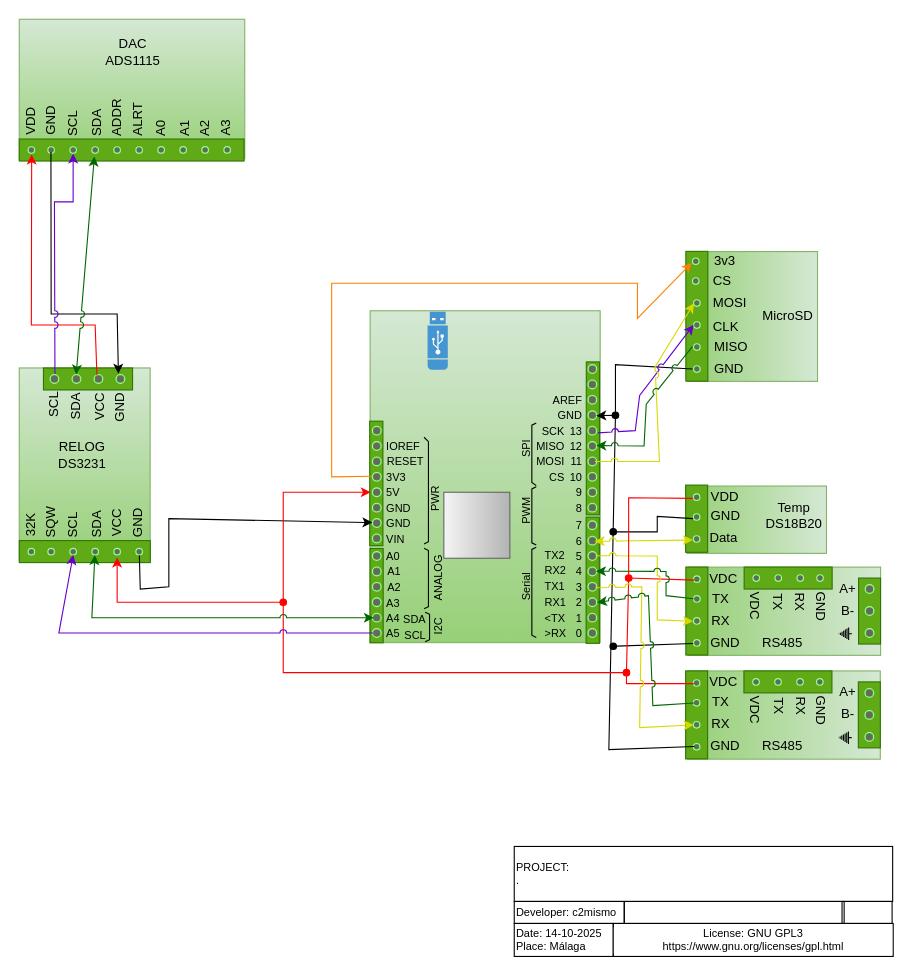
Image size: 913x976. Some labels were removed from this diagram. The shapes that lost their labels are listed below. From the top down, each one's centre as x and y in pixels, then its label:
point 476,524: ATmega2560
point 733,911: WEB: github.com/c2mismo/MPPT-XY7025
point 866,911: Page 1/1
